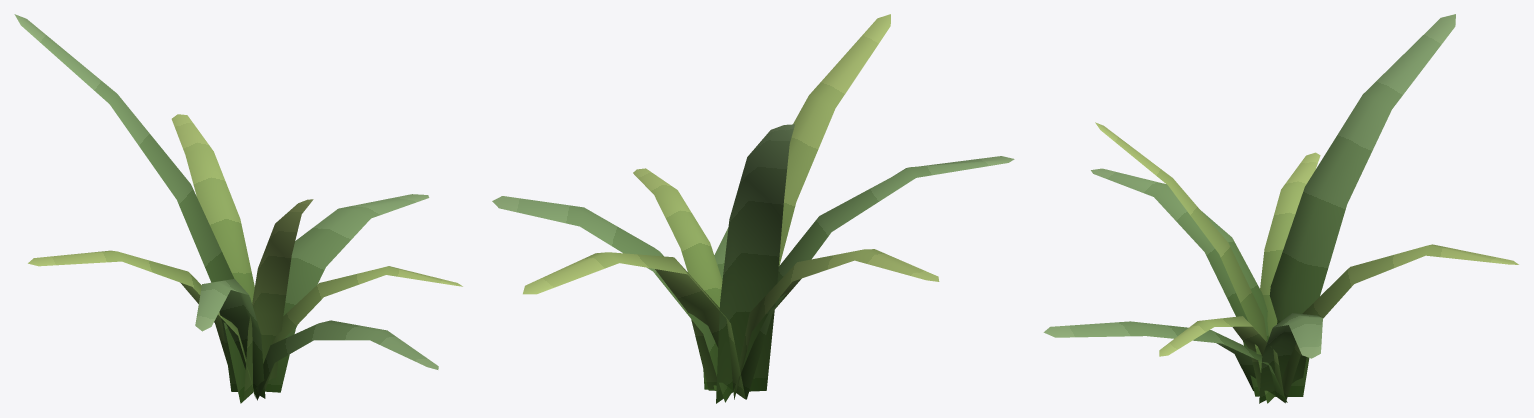
File: Grass.FBX
The picture shows the model from 3 angles, left to right: view 1: azimuth 30°, elevation 25°; view 2: azimuth 150°, elevation 25°; view 3: azimuth 270°, elevation 25°; orthographic projection. The views are drawn at different scales.
Parts seen in each view (by area): view 1: Grass; view 2: Grass; view 3: Grass.
Part boxes in pixels (x1,y1,x2,y2): Grass: [14, 14, 462, 403]; Grass: [492, 14, 1014, 403]; Grass: [1043, 14, 1518, 403].
Size of the model in its own units: 16.48 by 13.53 by 18.32.
1 material, 1 textured.
